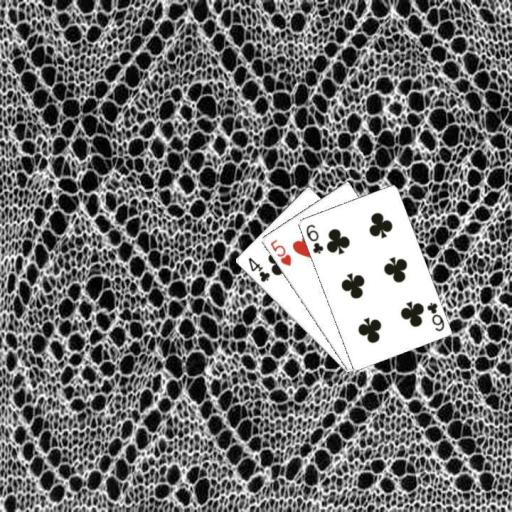4C: (245, 254, 271, 284)
5H: (267, 236, 292, 267)
6C: (423, 299, 445, 333), (303, 221, 324, 255)
